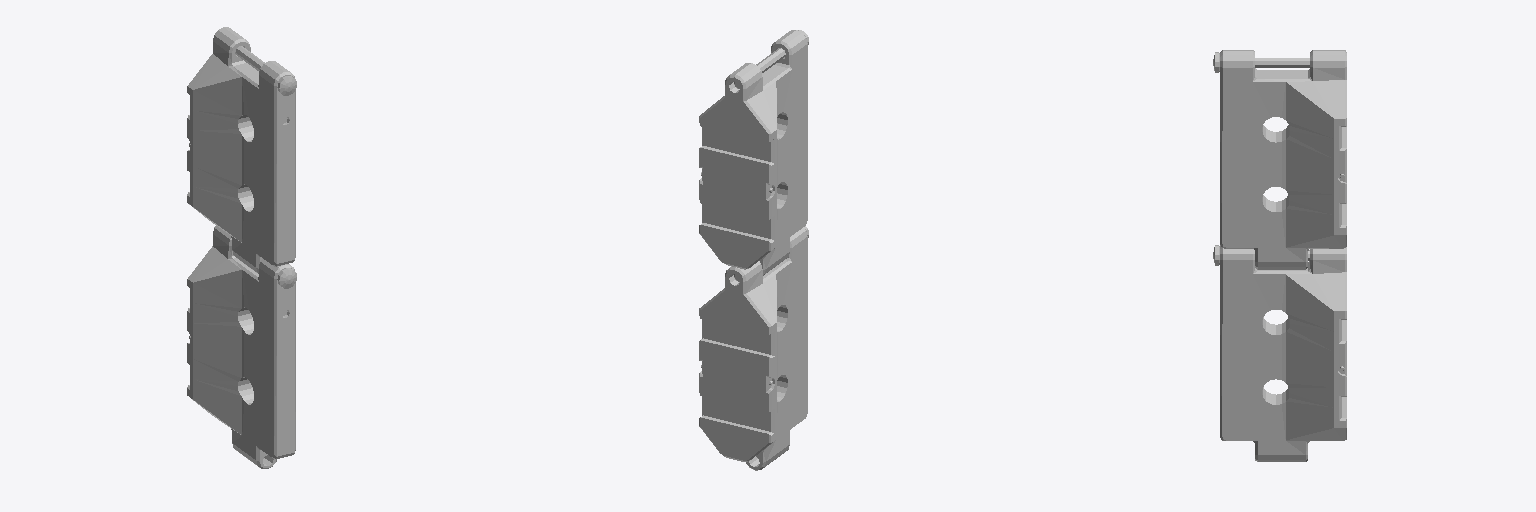
File: barrier.obj
3 renders of one model, left to right at view 1: azimuth 30°, elevation 25°; view 2: azimuth 150°, elevation 25°; view 3: azimuth 270°, elevation 25°, orthographic.
Parts seen in each view (by area): view 1: barrier_LP.001_Plane.002, barrier_LP.001_Plane.007, barrier_LP.001_Plane.003; view 2: barrier_LP.001_Plane.002, barrier_LP.001_Plane.007; view 3: barrier_LP.001_Plane.002, barrier_LP.001_Plane.007, barrier_LP.001_Plane.003.
Boxes of the visible parts, box(x1,y1,x2,y2) form: barrier_LP.001_Plane.002: box(187, 27, 295, 273); barrier_LP.001_Plane.007: box(187, 226, 295, 468); barrier_LP.001_Plane.003: box(235, 46, 296, 95); barrier_LP.001_Plane.002: box(699, 30, 807, 275); barrier_LP.001_Plane.007: box(699, 227, 807, 470); barrier_LP.001_Plane.002: box(1220, 50, 1346, 269); barrier_LP.001_Plane.007: box(1220, 245, 1346, 461); barrier_LP.001_Plane.003: box(1213, 52, 1309, 72).
Size of the model in its own units: 0.5371 by 2.91 by 0.8605.